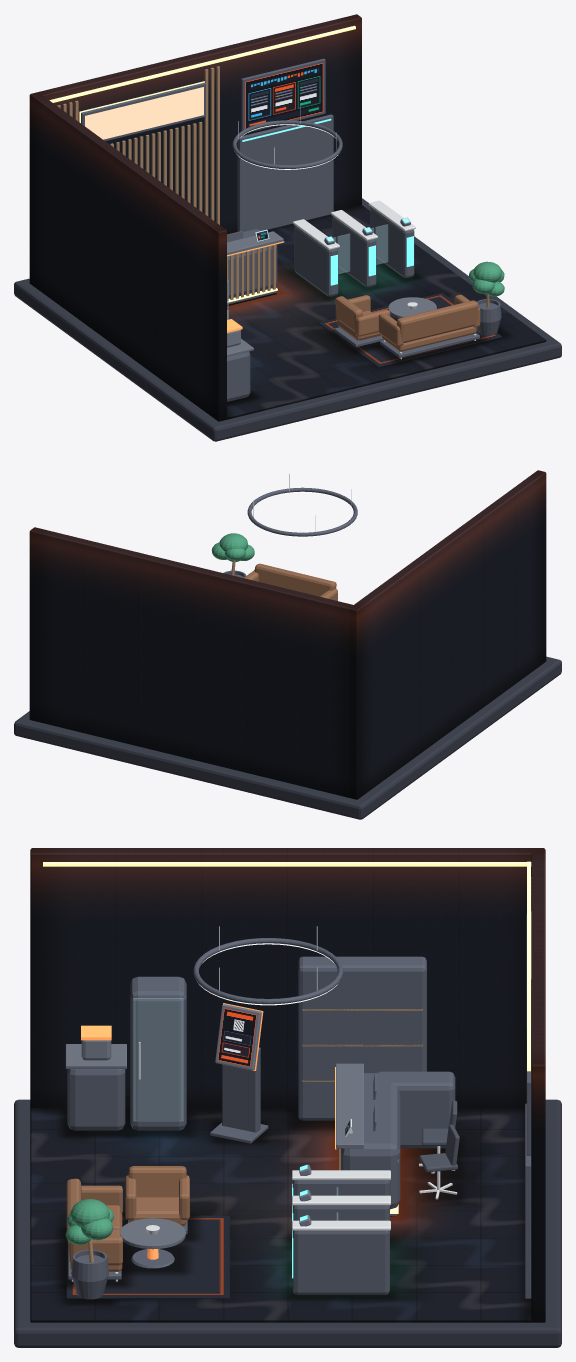
Rendered from the-house-fit-reception.glb.
3 views of the same model, one above another, from view 1: azimuth 30°, elevation 25°; view 2: azimuth 150°, elevation 25°; view 3: azimuth 270°, elevation 25° (orthographic). The views are drawn at different scales.
Visible parts, largest first — view 1: THF_Rec_lobbyWallBaked, THF_Rec_darkSteel, THF_Rec_lobbyFloorBaked, THF_Rec_plinthDark, THF_Rec_walnutWood, THF_Rec_cognacLeather, THF_Rec_pricingBoard, THF_Dynamic_Sign, THF_Rec_loungeRugBaked, THF_Rec_neonOrange, THF_Rec_chrome, THF_Rec_stoneCounter (+3 smaller); view 2: THF_Rec_lobbyWallBaked, THF_Rec_plinthDark, THF_Rec_cognacLeather, THF_Rec_darkSteel, THF_Rec_lobbyFloorBaked, THF_Rec_foliageGreen; view 3: THF_Rec_lobbyWallBaked, THF_Rec_lobbyFloorBaked, THF_Rec_darkSteel, THF_Rec_plinthDark, THF_Rec_loungeRugBaked, THF_Rec_temperedGlass, THF_Rec_cognacLeather, THF_Rec_stoneCounter, THF_Rec_chrome, THF_Rec_neonOrange, THF_Rec_kioskScreen, THF_Rec_foliageGreen (+4 smaller).
Part boxes in pixels (left/top/right/bottom): THF_Rec_lobbyWallBaked: left=29, top=14, right=361, bottom=420; THF_Rec_darkSteel: left=81, top=58, right=501, bottom=401; THF_Rec_lobbyFloorBaked: left=29, top=205, right=546, bottom=421; THF_Rec_plinthDark: left=14, top=198, right=561, bottom=441; THF_Rec_walnutWood: left=57, top=66, right=489, bottom=307; THF_Rec_cognacLeather: left=335, top=294, right=480, bottom=351; THF_Rec_pricingBoard: left=245, top=63, right=323, bottom=128; THF_Dynamic_Sign: left=85, top=87, right=203, bottom=139; THF_Rec_loungeRugBaked: left=318, top=292, right=501, bottom=367; THF_Rec_neonOrange: left=49, top=25, right=355, bottom=302; THF_Rec_chrome: left=227, top=106, right=476, bottom=359; THF_Rec_stoneCounter: left=227, top=231, right=436, bottom=356; THF_Rec_lobbyWallBaked: left=29, top=470, right=546, bottom=798; THF_Rec_plinthDark: left=14, top=656, right=561, bottom=819; THF_Rec_cognacLeather: left=244, top=563, right=337, bottom=600; THF_Rec_darkSteel: left=223, top=487, right=357, bottom=577; THF_Rec_lobbyFloorBaked: left=29, top=660, right=546, bottom=799; THF_Rec_foliageGreen: left=211, top=533, right=254, bottom=561; THF_Rec_lobbyWallBaked: left=30, top=848, right=545, bottom=1320; THF_Rec_lobbyFloorBaked: left=30, top=1108, right=545, bottom=1322; THF_Rec_darkSteel: left=67, top=914, right=531, bottom=1299; THF_Rec_plinthDark: left=14, top=1099, right=561, bottom=1347; THF_Rec_loungeRugBaked: left=66, top=1215, right=229, bottom=1298; THF_Rec_temperedGlass: left=133, top=998, right=338, bottom=1220; THF_Rec_cognacLeather: left=66, top=1166, right=189, bottom=1271; THF_Rec_stoneCounter: left=65, top=1044, right=363, bottom=1249; THF_Rec_chrome: left=71, top=926, right=457, bottom=1281; THF_Rec_neonOrange: left=43, top=861, right=531, bottom=1213; THF_Rec_kioskScreen: left=218, top=1008, right=256, bottom=1066; THF_Rec_foliageGreen: left=65, top=1199, right=113, bottom=1244.
Size of the model in its own units: 6.98 by 3.96 by 6.98.
Materials: 23 (6 with a texture image).
